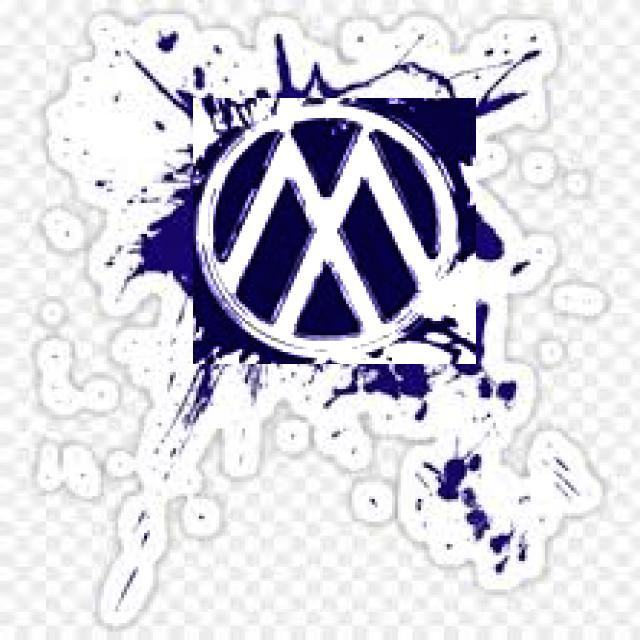volkswagen: (193, 98, 476, 364)
